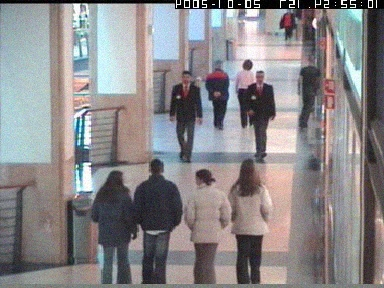person: (132, 157, 183, 284), (222, 158, 271, 284), (183, 166, 231, 284), (90, 170, 136, 284), (168, 70, 202, 161), (242, 70, 276, 158), (204, 59, 230, 128), (297, 54, 321, 127), (235, 59, 254, 128), (279, 8, 297, 40), (310, 16, 316, 53)
